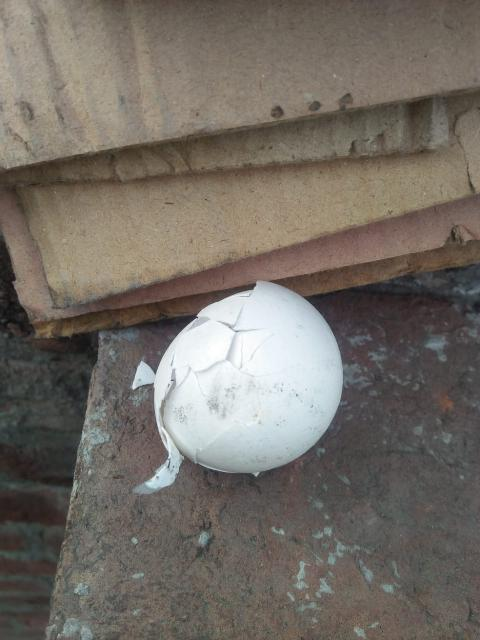Roto: (149, 279, 344, 479)
